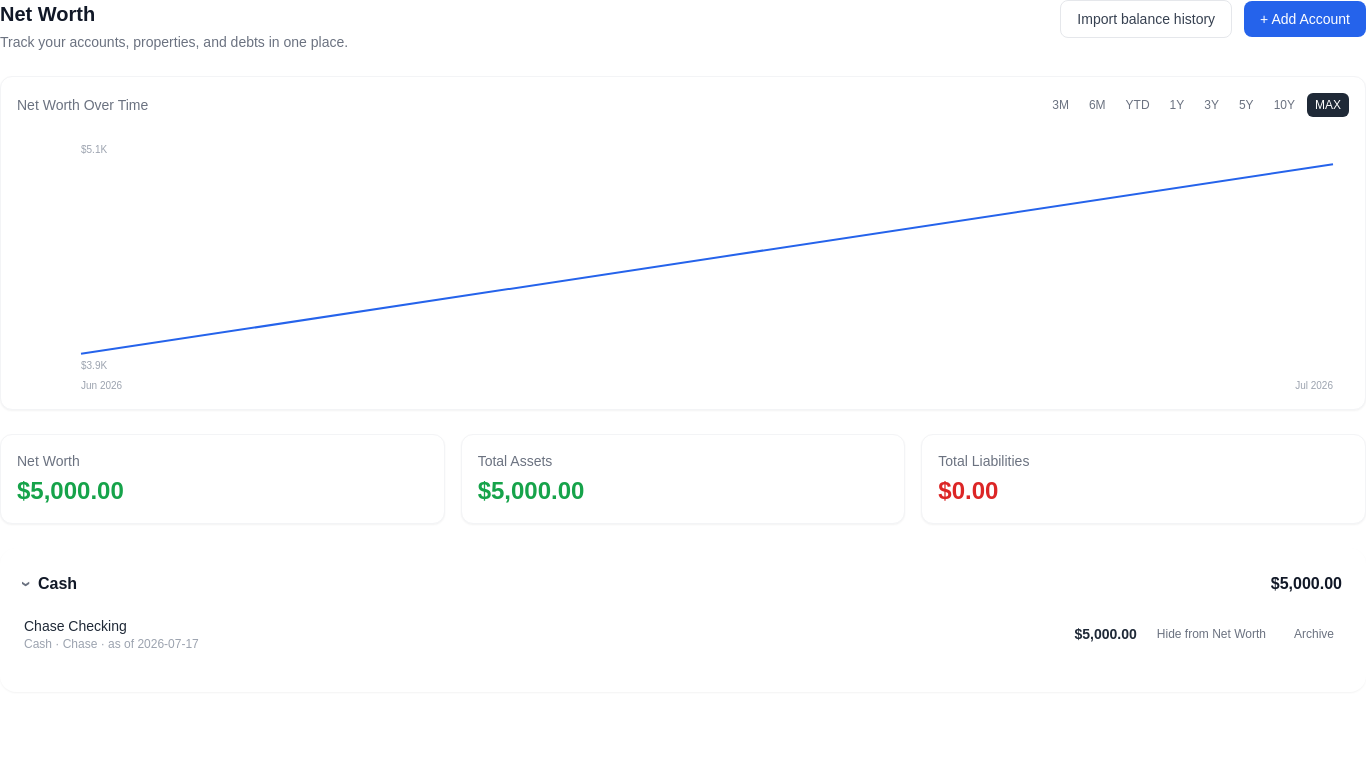
Test case: NetWorthClient — refresh after a balance edit › updates local state before refreshing, so the UI responds immediately
Click the text "Chase Checking": (75, 626) [24, 618, 127, 634]
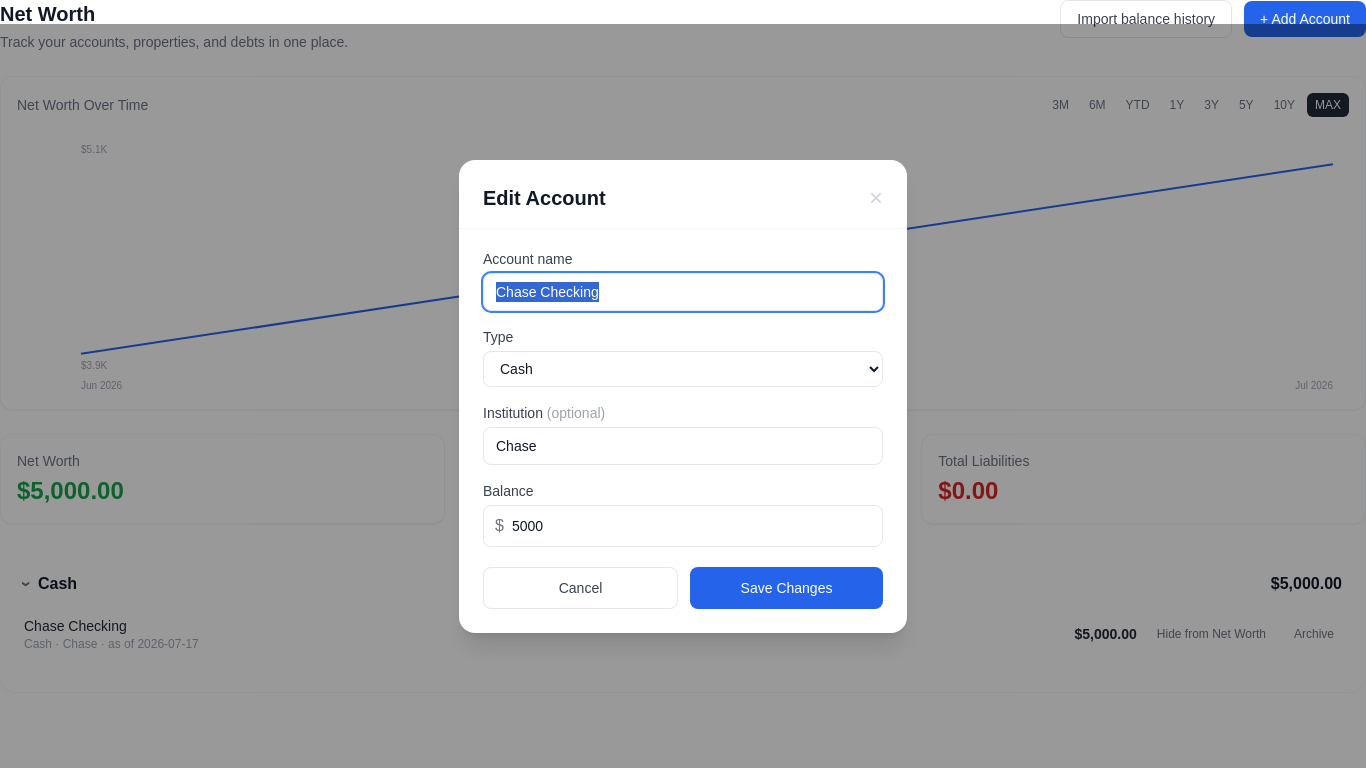
Replace the text in the number field labelled "Balance" with "9000": (683, 526) [483, 504, 883, 546]
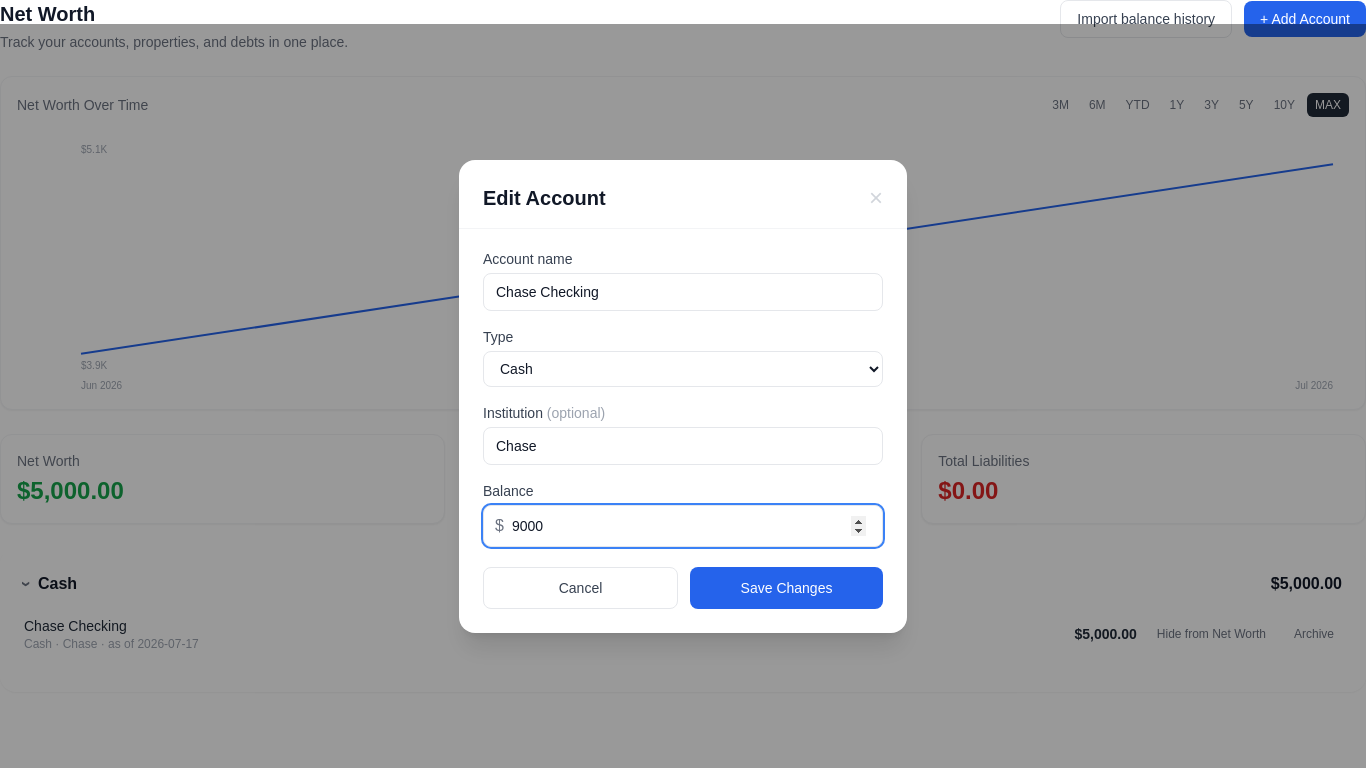
Click the button "Save Changes": (786, 588) [690, 566, 883, 608]
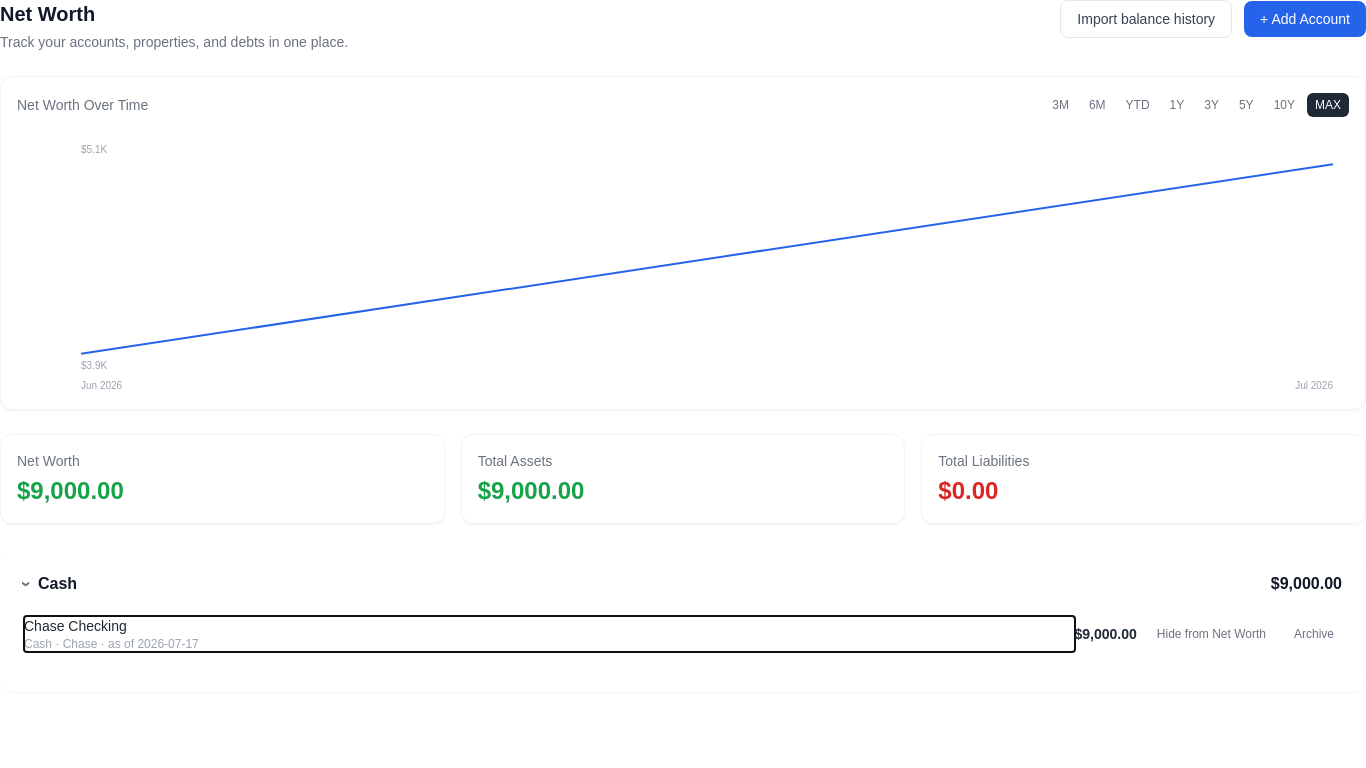
Result: the 1st text "$9,000.00" is shown at [17, 477, 124, 504]
Result: the text "$5,000.00" is gone
